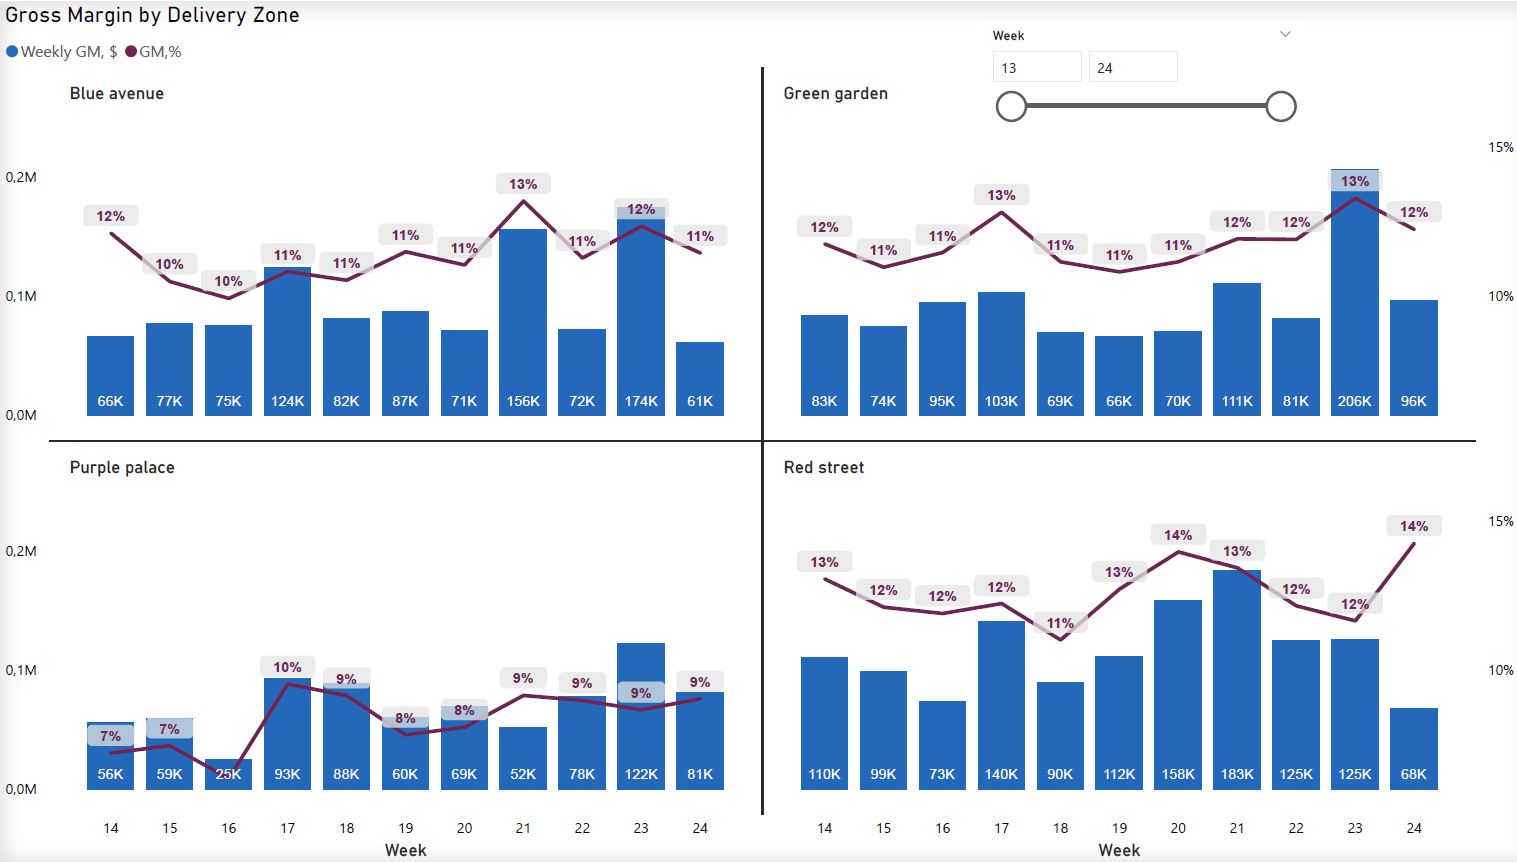

What the dashboard file says about the page in this screenshot:
{"tool":"powerbi","page":{"name":"Week -  GM_by_zone","canvas":[1280,720],"ordinal":3},"visuals":[{"type":"lineStackedColumnComboChart","title":"Gross Margin by Delivery Zone","fields":{"Rows":["zone_economy.delivery_zone"],"Category":["zone_economy.Week"],"Y":["Sum(zone_economy.Week_GM)"],"Y2":["zone_economy.GM,%"]},"box":[0,0,1280,719.7],"z":0},{"type":"slicer","fields":{"Values":["zone_economy.Week"]},"box":[813.7,17.2,274.1,102.6],"z":3000}]}

Visuals, with their boxes in screenshot pixels (x1, y1, x2, y2), scaled from the page's 1280x720 canvas onto the 1517x862 screenshot:
"Gross Margin by Delivery Zone" lineStackedColumnComboChart: <bbox>0, 0, 1516, 861</bbox>
slicer - zone_economy.Week: <bbox>964, 21, 1289, 143</bbox>
